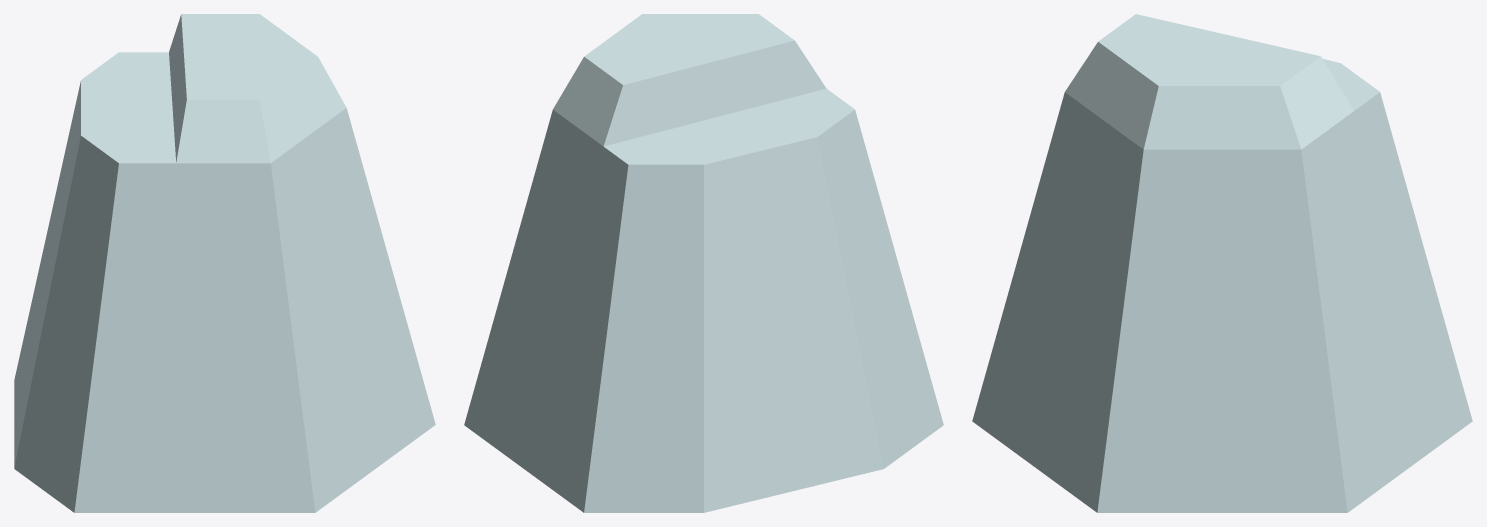
File: stone_tallE.glb
3 renders of one model, left to right at view 1: azimuth 30°, elevation 25°; view 2: azimuth 150°, elevation 25°; view 3: azimuth 270°, elevation 25°, orthographic. The views are drawn at different scales.
Visible parts, largest first — view 1: stone_tallE; view 2: stone_tallE; view 3: stone_tallE.
Part boxes in pixels (x1,y1,x2,y2): stone_tallE: [14, 14, 435, 512]; stone_tallE: [464, 14, 943, 512]; stone_tallE: [972, 14, 1472, 512].
Size of the model in its own units: 0.4562 by 0.4438 by 0.5268.
1 material, 1 textured.
